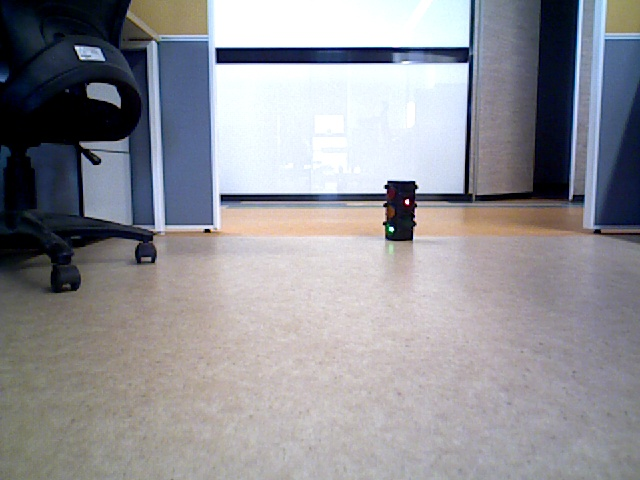green: (384, 184, 412, 234)
